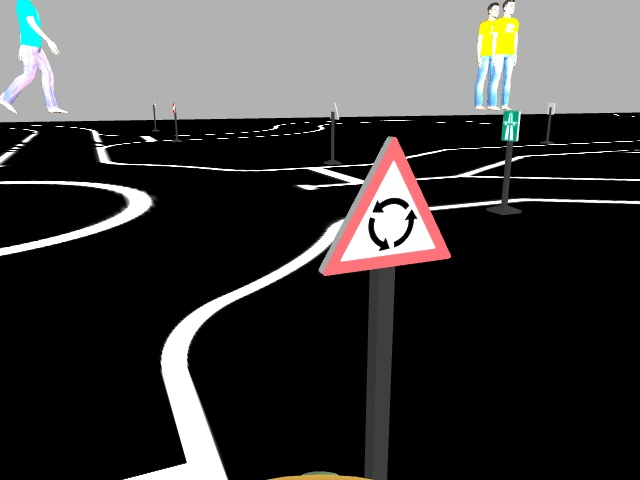HighwayEntrance: (500, 107, 521, 142)
Roundabout: (320, 133, 455, 278)
